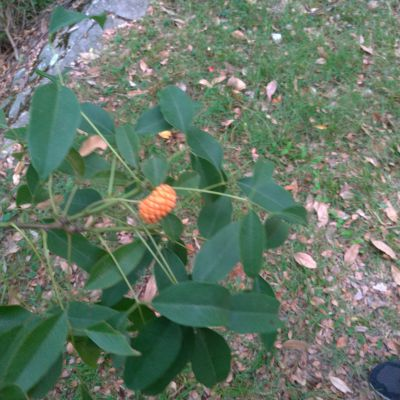eggs: (135, 181, 180, 222)
